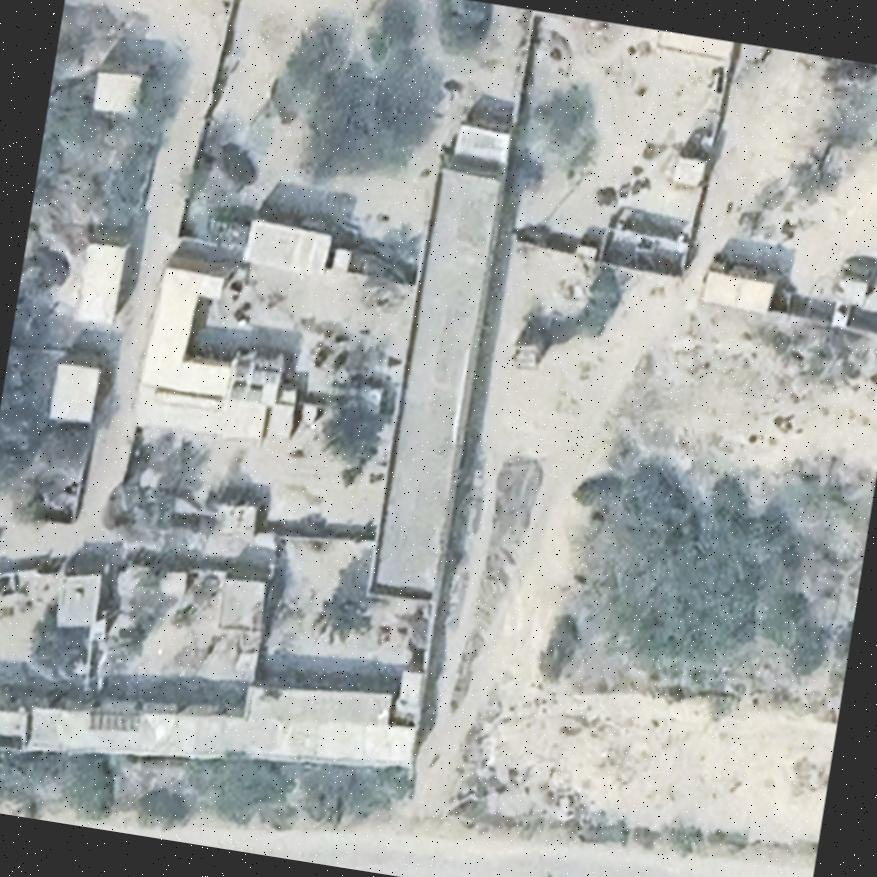Solarpanel: (229, 345, 286, 387), (225, 379, 267, 407)
